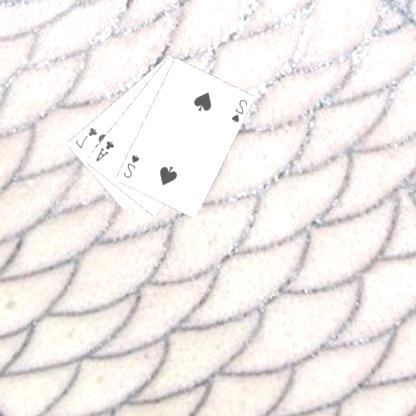2S: (122, 152, 142, 180), (230, 97, 250, 124)
7C: (74, 124, 100, 150)
AC: (95, 138, 117, 163)
